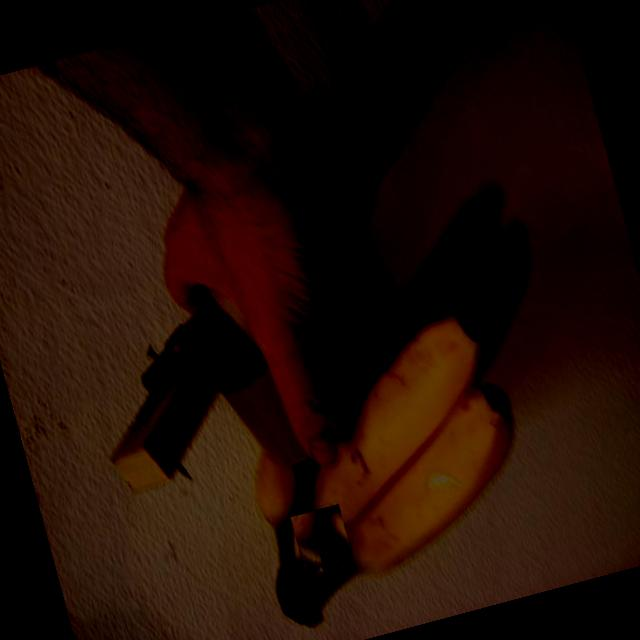Banana: (221, 309, 547, 632)
